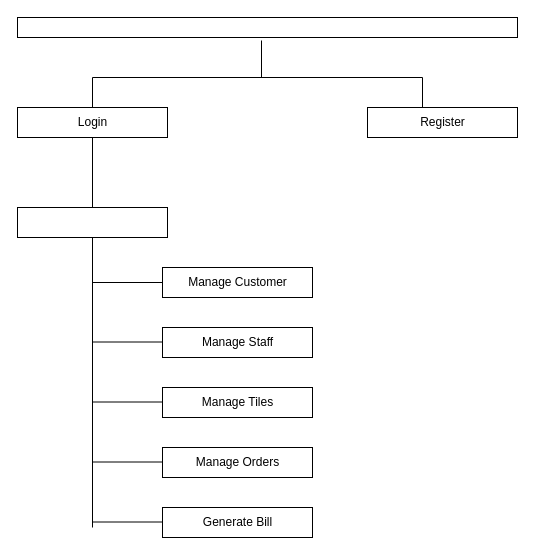
Some shapes in this 535 by 555 pixel diagram are drawn without their labels. The centre of each missing label's shape, as x and y in pixels:
"Amigo Ceramica" goes at point (267, 27).
"HomePage" goes at point (92, 222).
